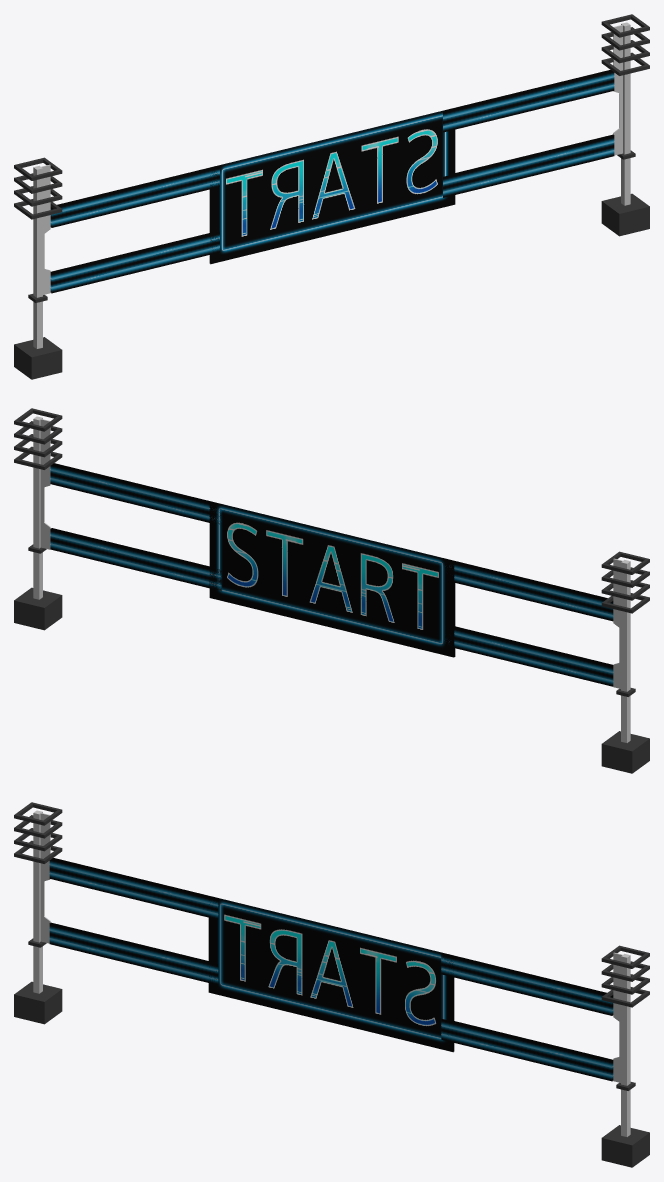
File: start_gate.fbx
3 renders of one model, top to bottom at view 1: azimuth 30°, elevation 25°; view 2: azimuth 150°, elevation 25°; view 3: azimuth 330°, elevation 25°, orthographic.
Parts seen in each view (by area): view 1: pPlane6_ncl2_, pPlane5_ncl1_1, pPlane4_ncl1_1, pPlane3_ncl1_1, pPlane2_ncl1_1, pCube8, pCube22, pCube9, pCube9_ncl1_1; view 2: pPlane6, pPlane5, pPlane4, pPlane3, pPlane2, pCube8, pCube22, pCube9, pCube9_ncl1_1; view 3: pPlane6_ncl2_, pPlane5_ncl1_1, pPlane3_ncl1_1, pPlane2_ncl1_1, pPlane4_ncl1_1, pCube22, pCube8, pCube9_ncl1_1, pCube9.
Part boxes in pixels (bbox=[...]): pPlane6_ncl2_: bbox=[210, 111, 455, 264]; pPlane5_ncl1_1: bbox=[443, 135, 614, 197]; pPlane4_ncl1_1: bbox=[443, 70, 614, 132]; pPlane3_ncl1_1: bbox=[51, 231, 219, 293]; pPlane2_ncl1_1: bbox=[51, 166, 219, 227]; pCube8: bbox=[14, 165, 62, 379]; pCube22: bbox=[601, 22, 649, 236]; pCube9: bbox=[613, 25, 622, 155]; pCube9_ncl1_1: bbox=[41, 164, 50, 294]; pPlane6: bbox=[209, 502, 454, 657]; pPlane5: bbox=[50, 528, 221, 591]; pPlane4: bbox=[50, 464, 221, 523]; pPlane3: bbox=[445, 627, 613, 686]; pPlane2: bbox=[445, 560, 613, 621]; pCube8: bbox=[601, 559, 649, 773]; pCube22: bbox=[14, 416, 62, 630]; pCube9: bbox=[40, 419, 50, 549]; pCube9_ncl1_1: bbox=[613, 558, 622, 688]; pPlane6_ncl2_: bbox=[208, 898, 453, 1052]; pPlane5_ncl1_1: bbox=[441, 1018, 612, 1081]; pPlane3_ncl1_1: bbox=[49, 923, 218, 984]; pPlane2_ncl1_1: bbox=[49, 858, 218, 919]; pPlane4_ncl1_1: bbox=[441, 953, 612, 1015]; pCube22: bbox=[601, 953, 649, 1167]; pCube8: bbox=[14, 810, 62, 1024]; pCube9_ncl1_1: bbox=[40, 813, 50, 943]; pCube9: bbox=[613, 952, 622, 1082].
Size of the model in its own units: 2020 by 630 by 100.
